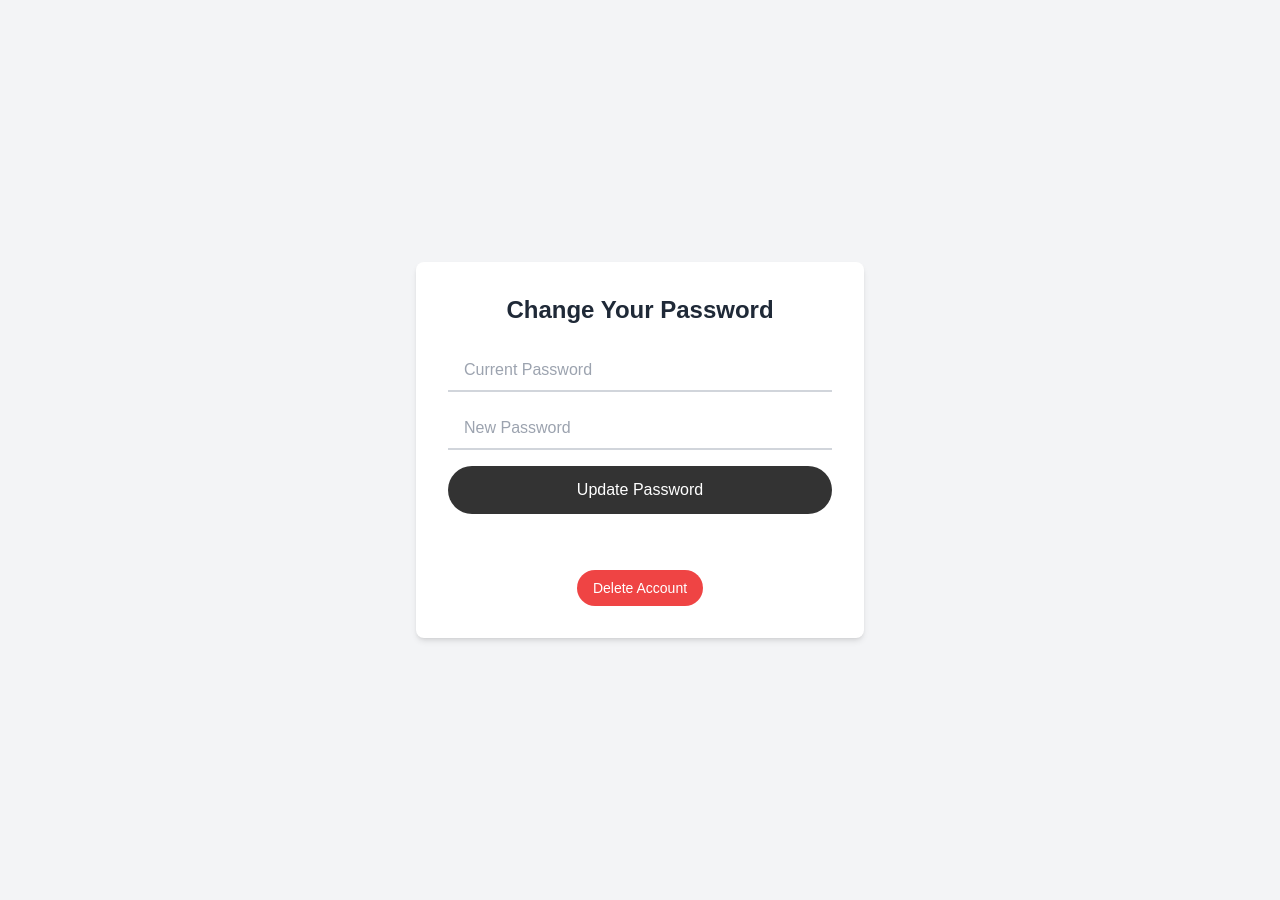
it: UpdateAccountPage › closes the modal when cancel button is clicked
Provide the current password and click delete
Step 1. Type "password" into the password field with placeholder "Current Password" → (640, 371), box [448,350,832,392]
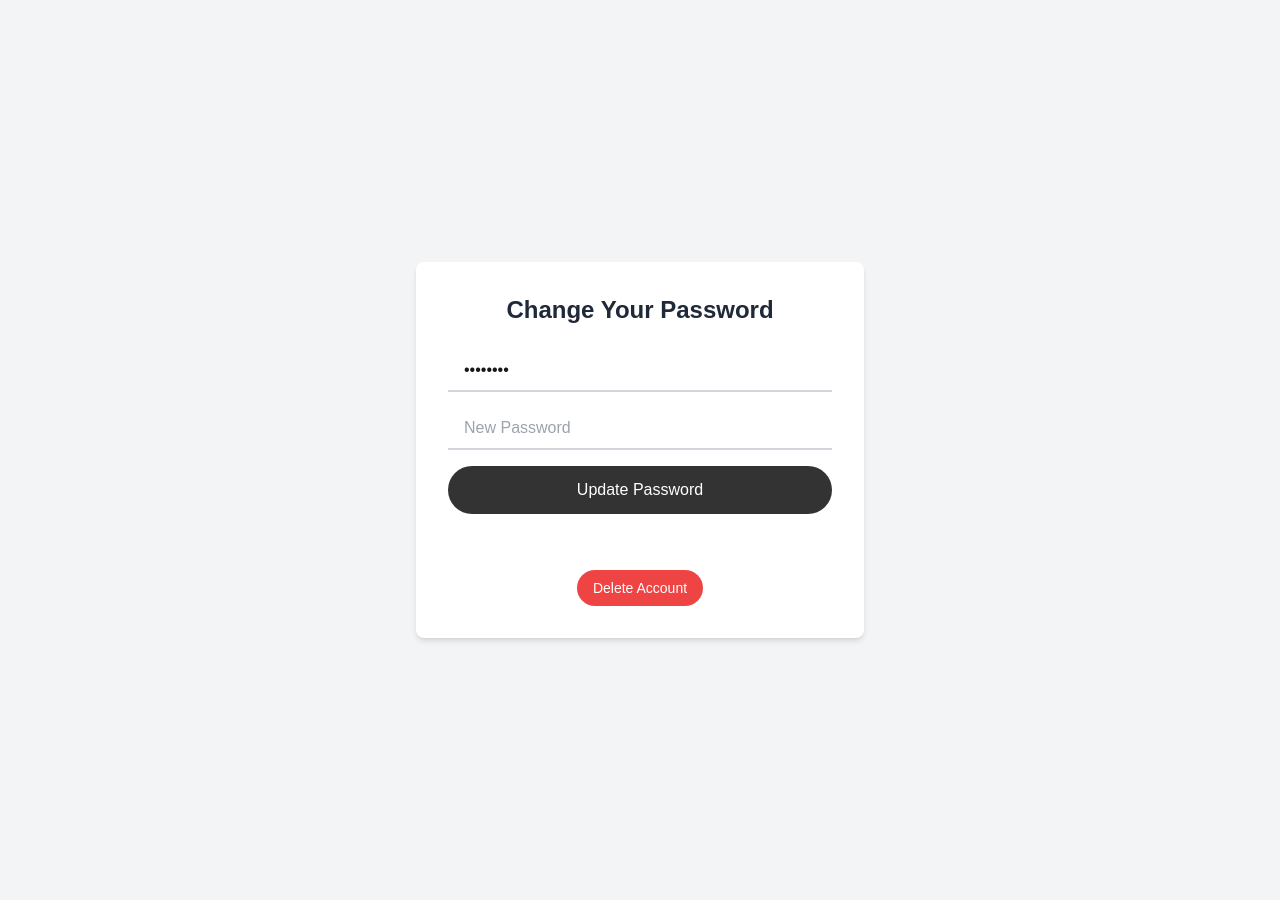
Click the "Delete Account" button
Step 2. Click the button with aria-label "delete your account" → (640, 588), box [577,570,703,606]
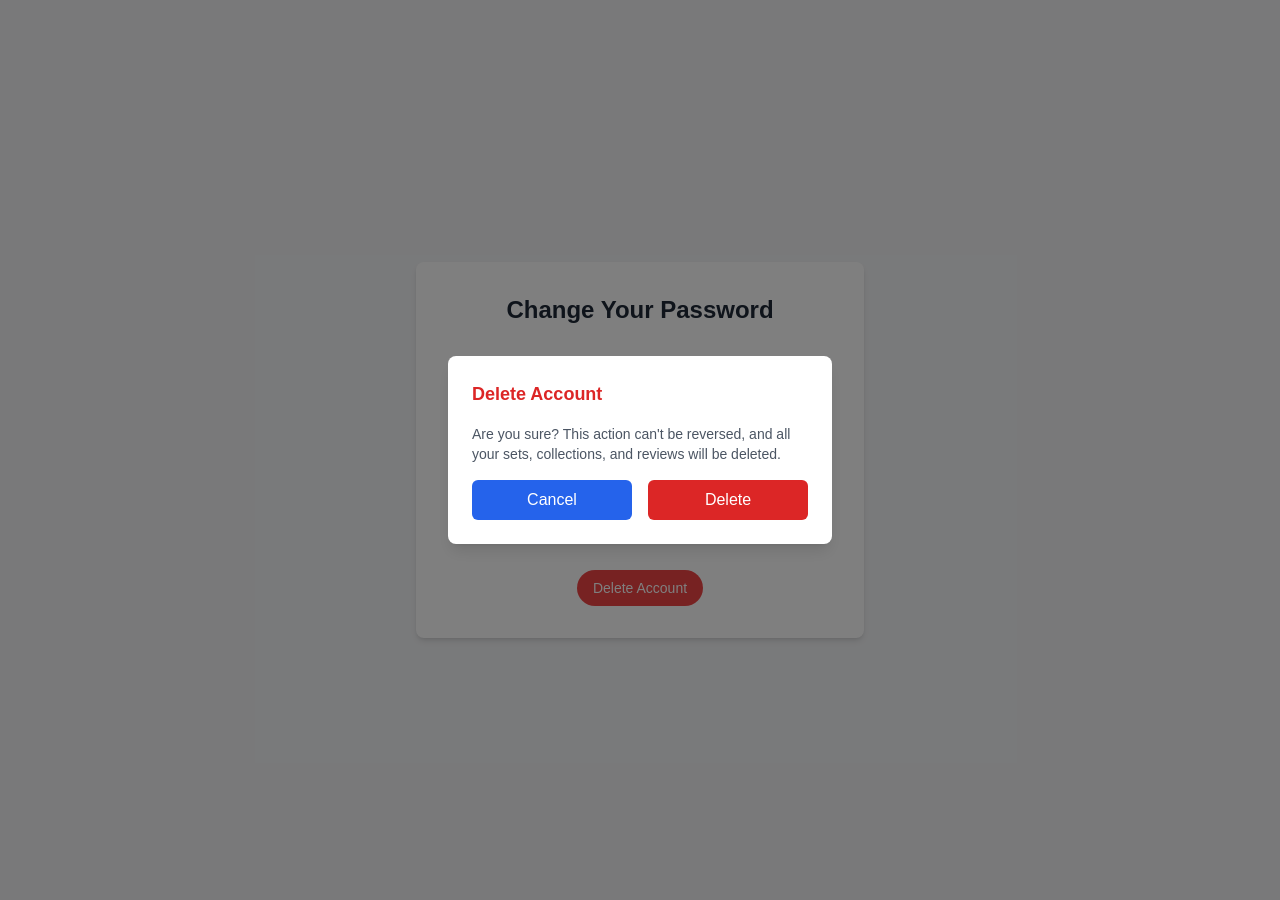
Click cancel to close the modal
Step 3. Click the button "Cancel" → (552, 500), box [472,480,632,520]
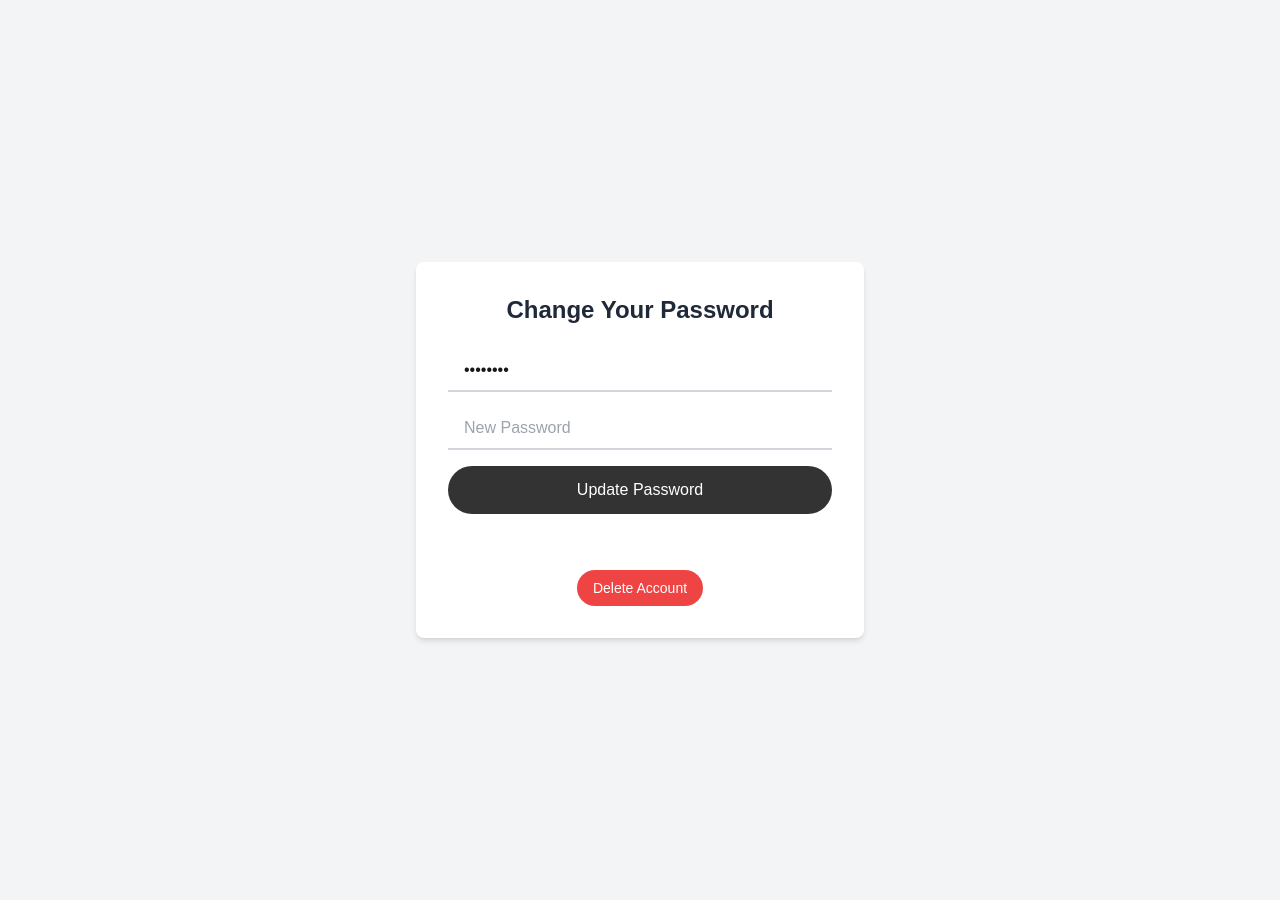
Expected: the dialog is gone
